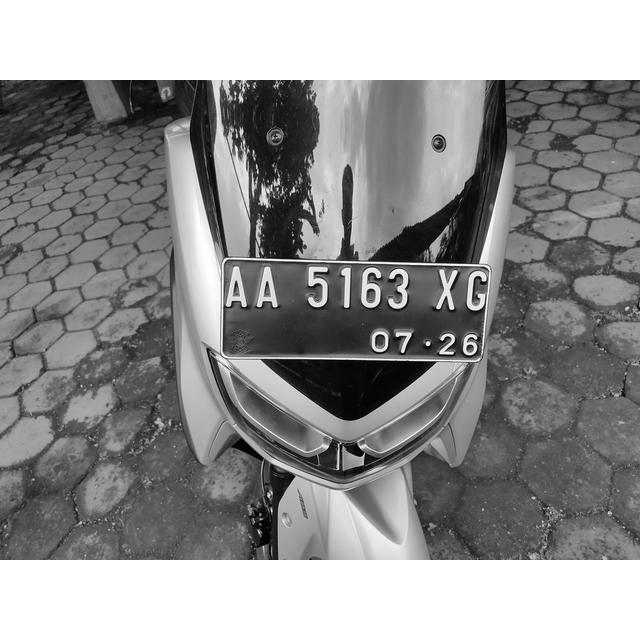license: (225, 265, 488, 360)
